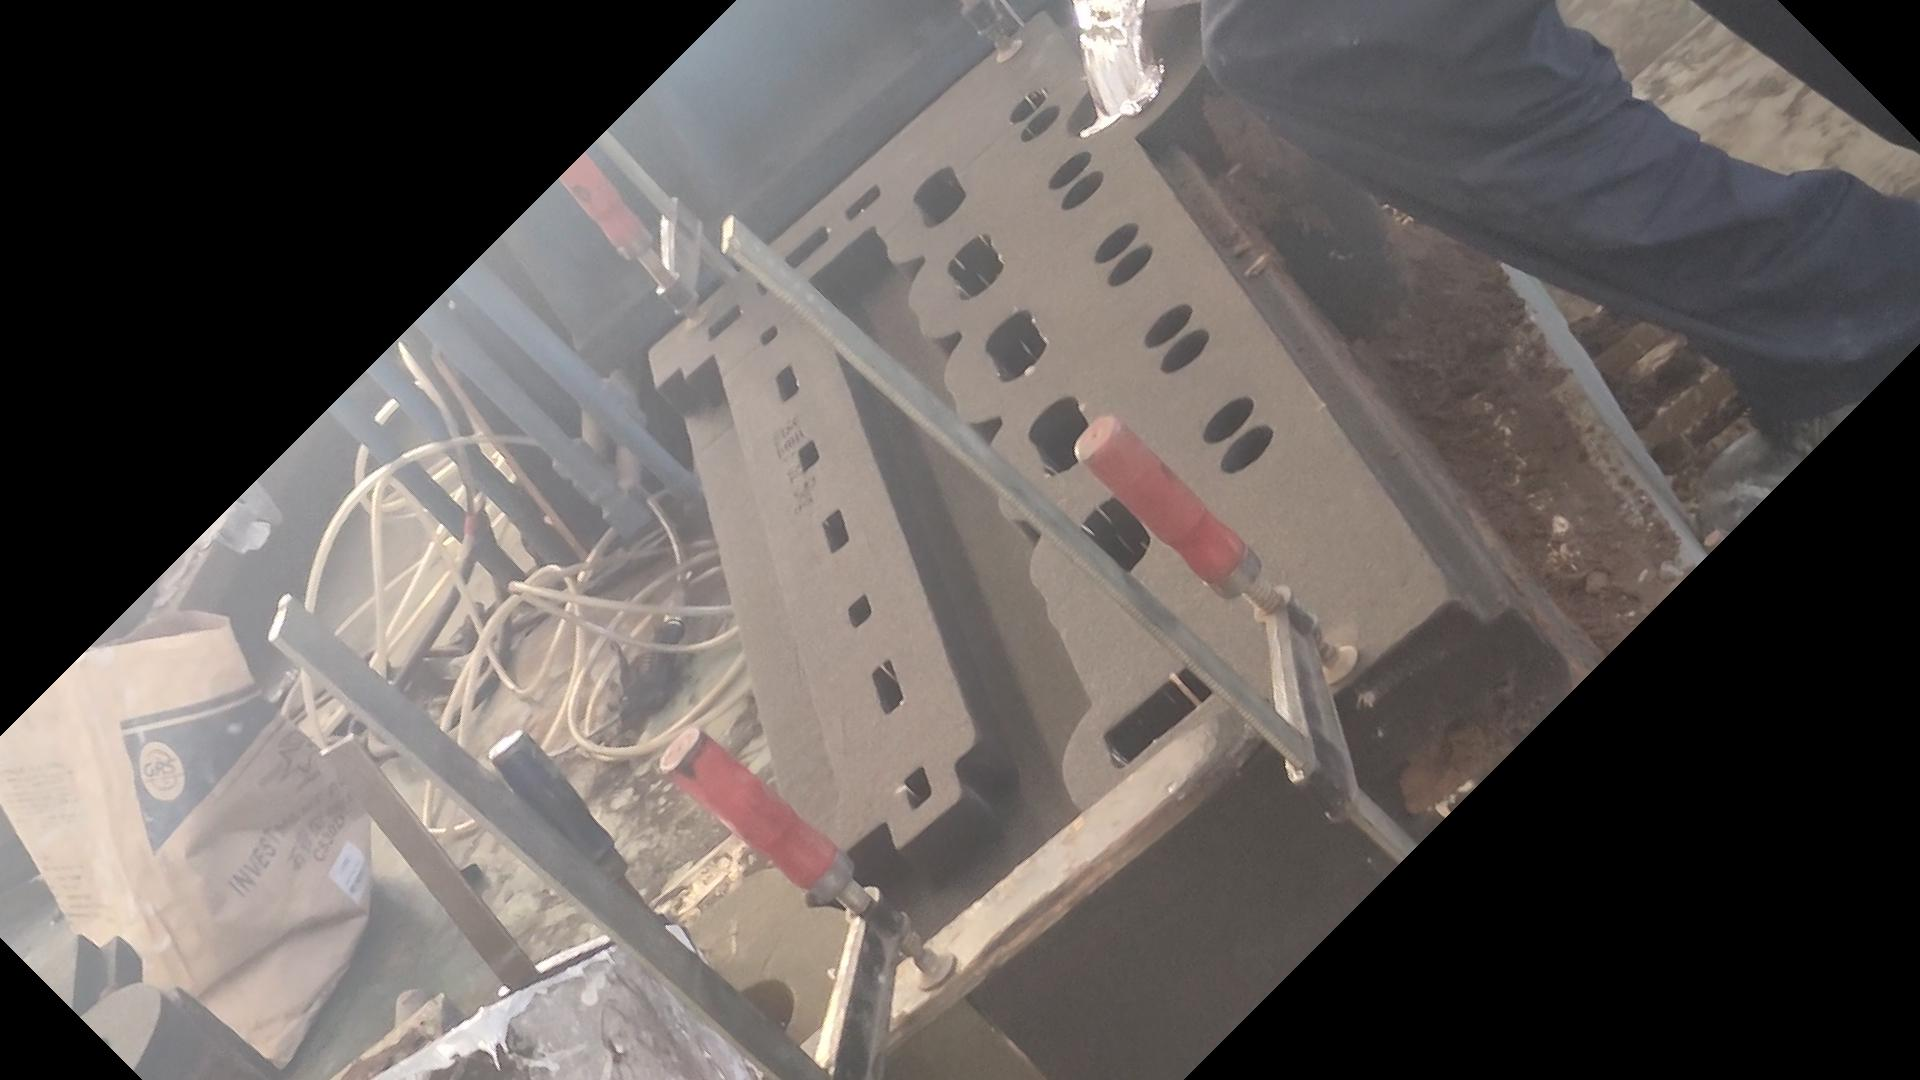pouring hole: (1065, 49, 1153, 137), (696, 977, 794, 1047)
